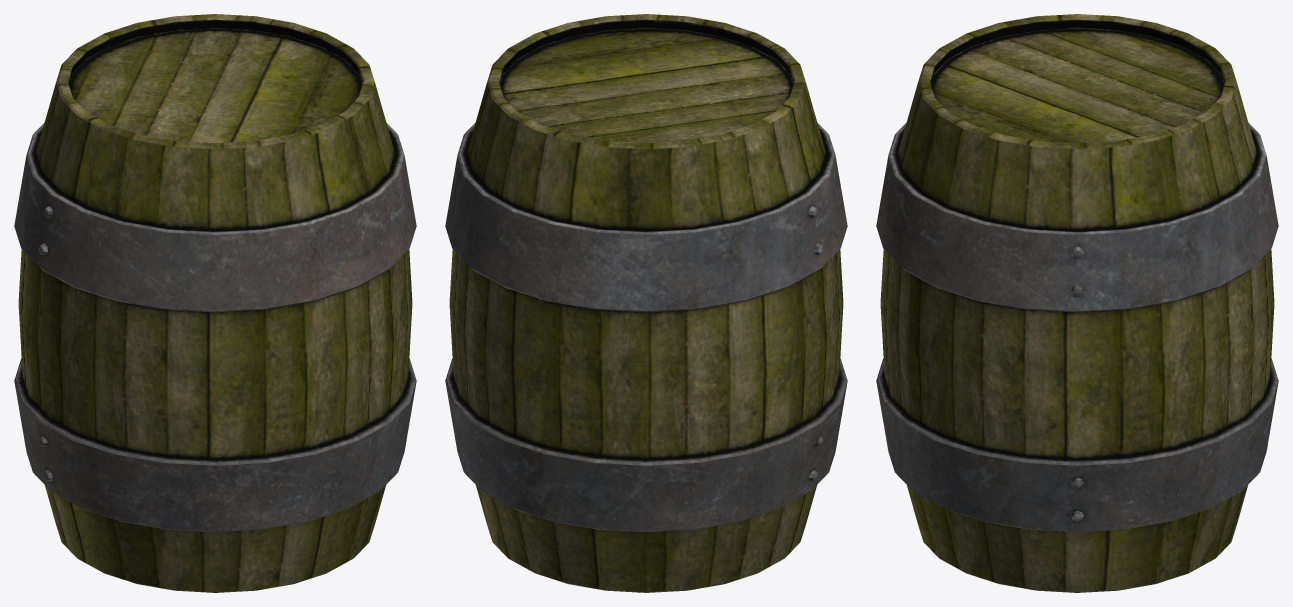
The model's file is barrel_mobile.glb.
The picture shows the model from 3 angles, left to right: view 1: azimuth 30°, elevation 25°; view 2: azimuth 150°, elevation 25°; view 3: azimuth 270°, elevation 25°; orthographic projection.
Parts seen in each view (by area): view 1: defaultMaterial; view 2: defaultMaterial; view 3: defaultMaterial.
Boxes of the visible parts, x1=… form: defaultMaterial: x1=14, y1=14, x2=416, y2=592; defaultMaterial: x1=445, y1=14, x2=847, y2=592; defaultMaterial: x1=876, y1=14, x2=1278, y2=592.
Size of the model in its own units: 0.7833 by 0.9484 by 0.775.
Materials: 1 (1 with a texture image).
